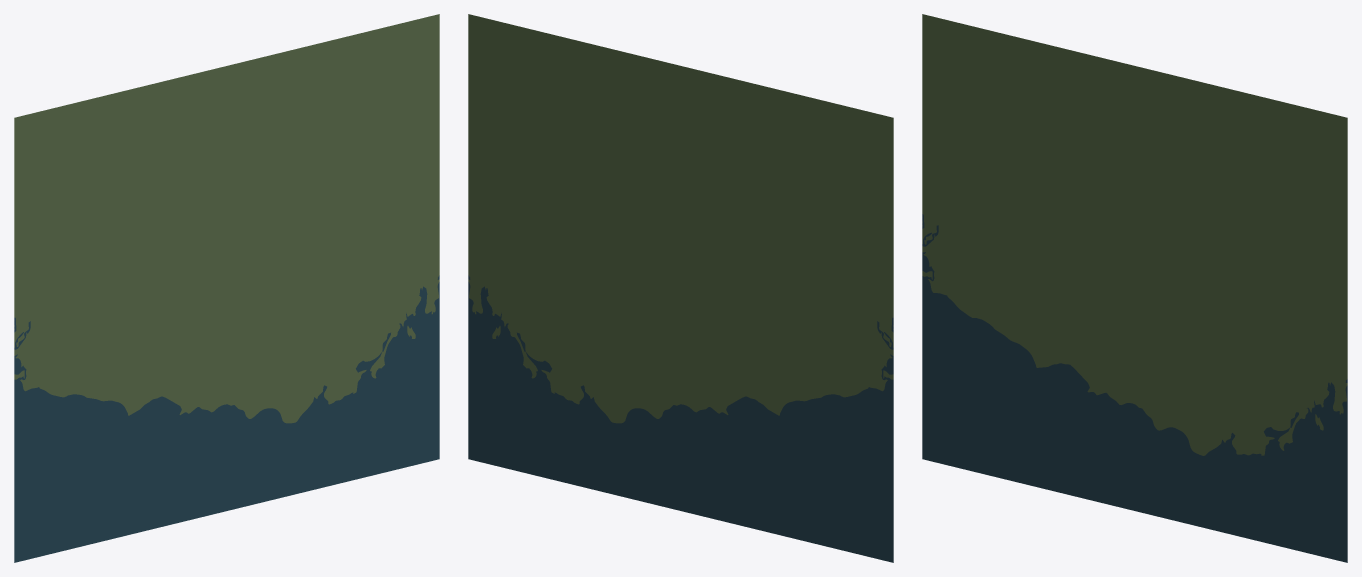
The model's file is shape_101_Coast_01.glb.
3 views of the same model, side by side, from view 1: azimuth 30°, elevation 25°; view 2: azimuth 150°, elevation 25°; view 3: azimuth 330°, elevation 25° (orthographic).
Bounding box in the file's own units: 4096 × 4096 × 0.
